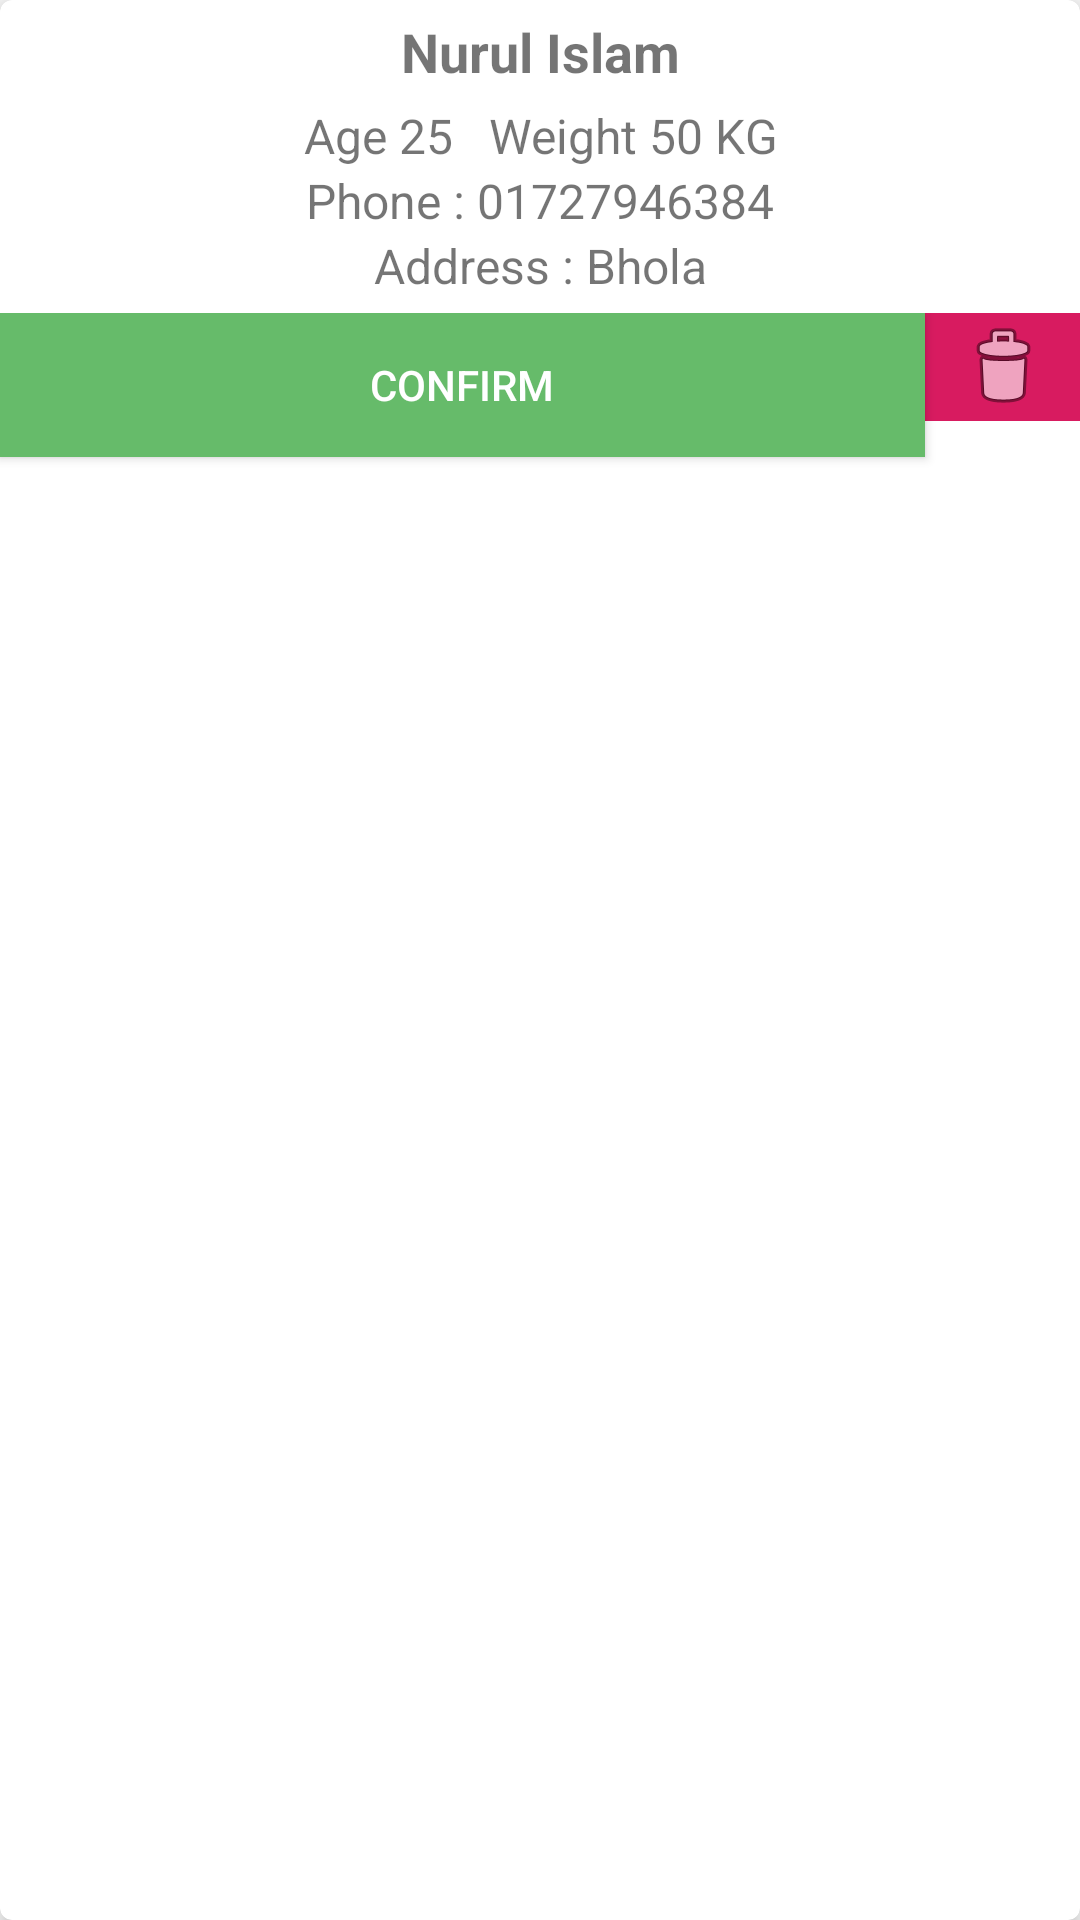

Screen size 1080 x 1920. Icon name, then its box in pixels as (x1,y1,x2,y2):
delete: (925,313,1080,421)
